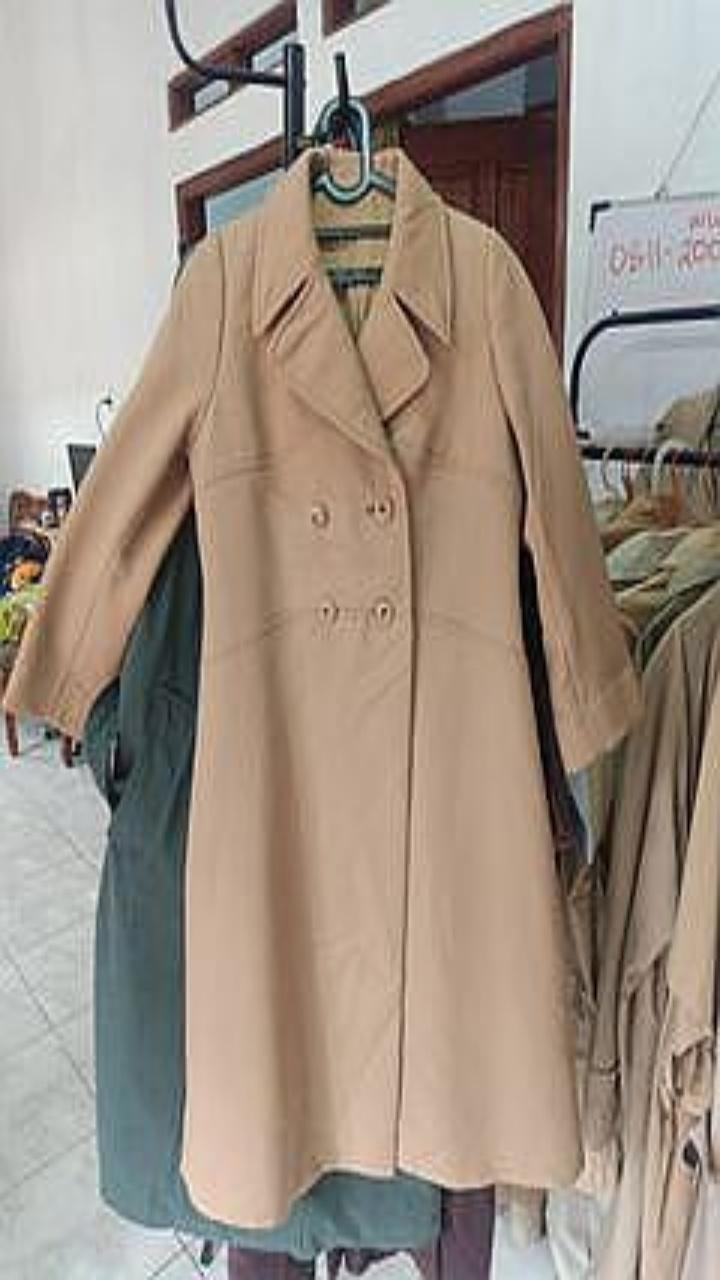Coat: (5, 148, 638, 1225), (83, 510, 440, 1259)
